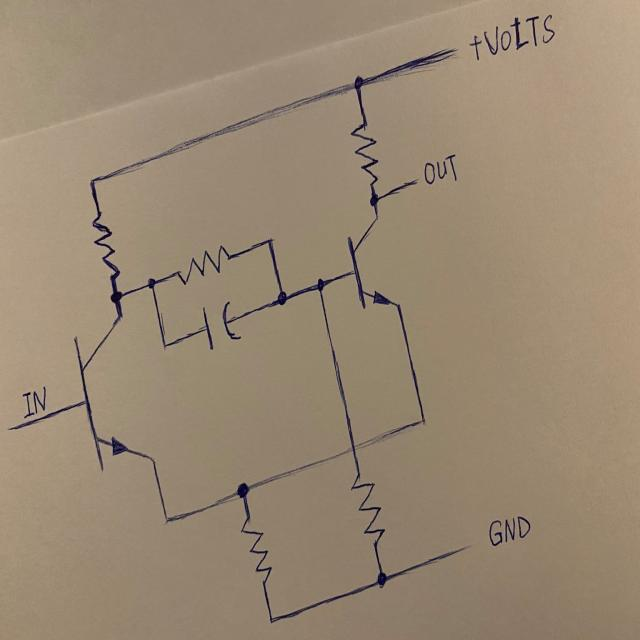capacitor: (197, 298, 243, 354)
crossover: (344, 435, 366, 458)
junction: (370, 564, 394, 597), (309, 272, 330, 302), (230, 476, 254, 502), (83, 168, 105, 194), (263, 608, 284, 634), (413, 404, 432, 432), (258, 231, 278, 255), (272, 286, 292, 310), (156, 506, 174, 532), (157, 334, 177, 357), (142, 270, 161, 294), (349, 70, 367, 93), (106, 287, 125, 306), (368, 191, 382, 210)
resistor: (350, 474, 387, 550), (240, 516, 274, 590), (170, 246, 232, 284), (90, 211, 122, 281), (350, 121, 382, 186)
terminal: (450, 538, 482, 556), (403, 171, 422, 189), (443, 42, 460, 62), (3, 422, 26, 433)
text: (483, 14, 556, 55), (485, 512, 532, 546), (424, 152, 462, 186), (20, 386, 46, 415), (468, 33, 482, 62)
transistor: (68, 317, 154, 464), (345, 216, 400, 308)
